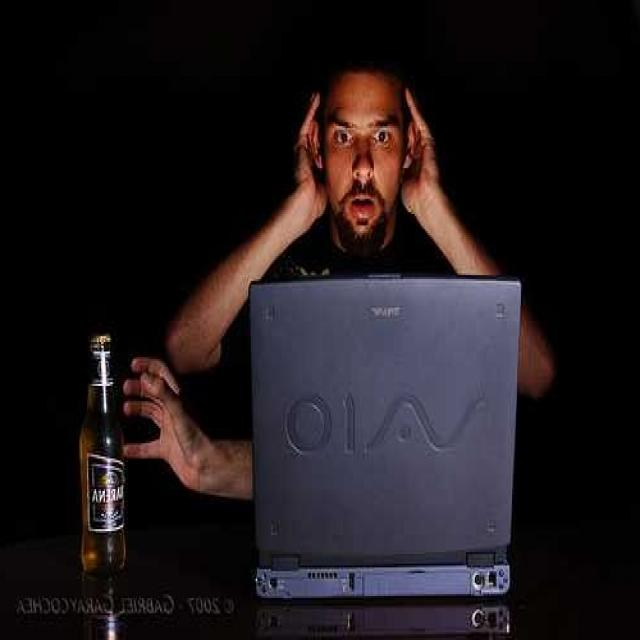laptop: (240, 274, 532, 596)
